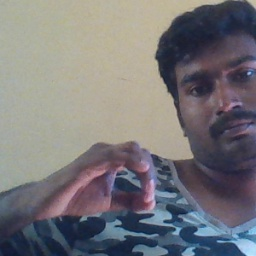O: (44, 137, 161, 223)
